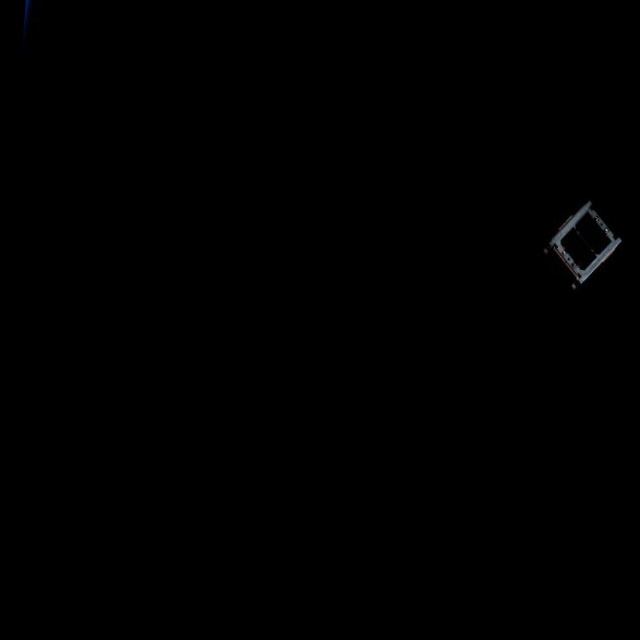satellite: (545, 194, 629, 291)
